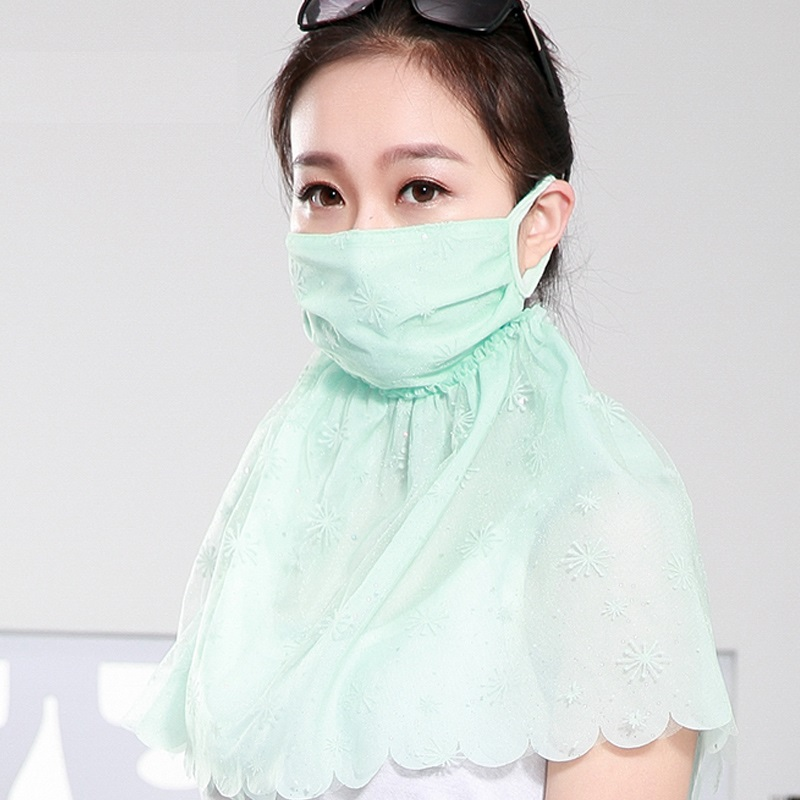face_mask: (289, 52, 514, 374)
